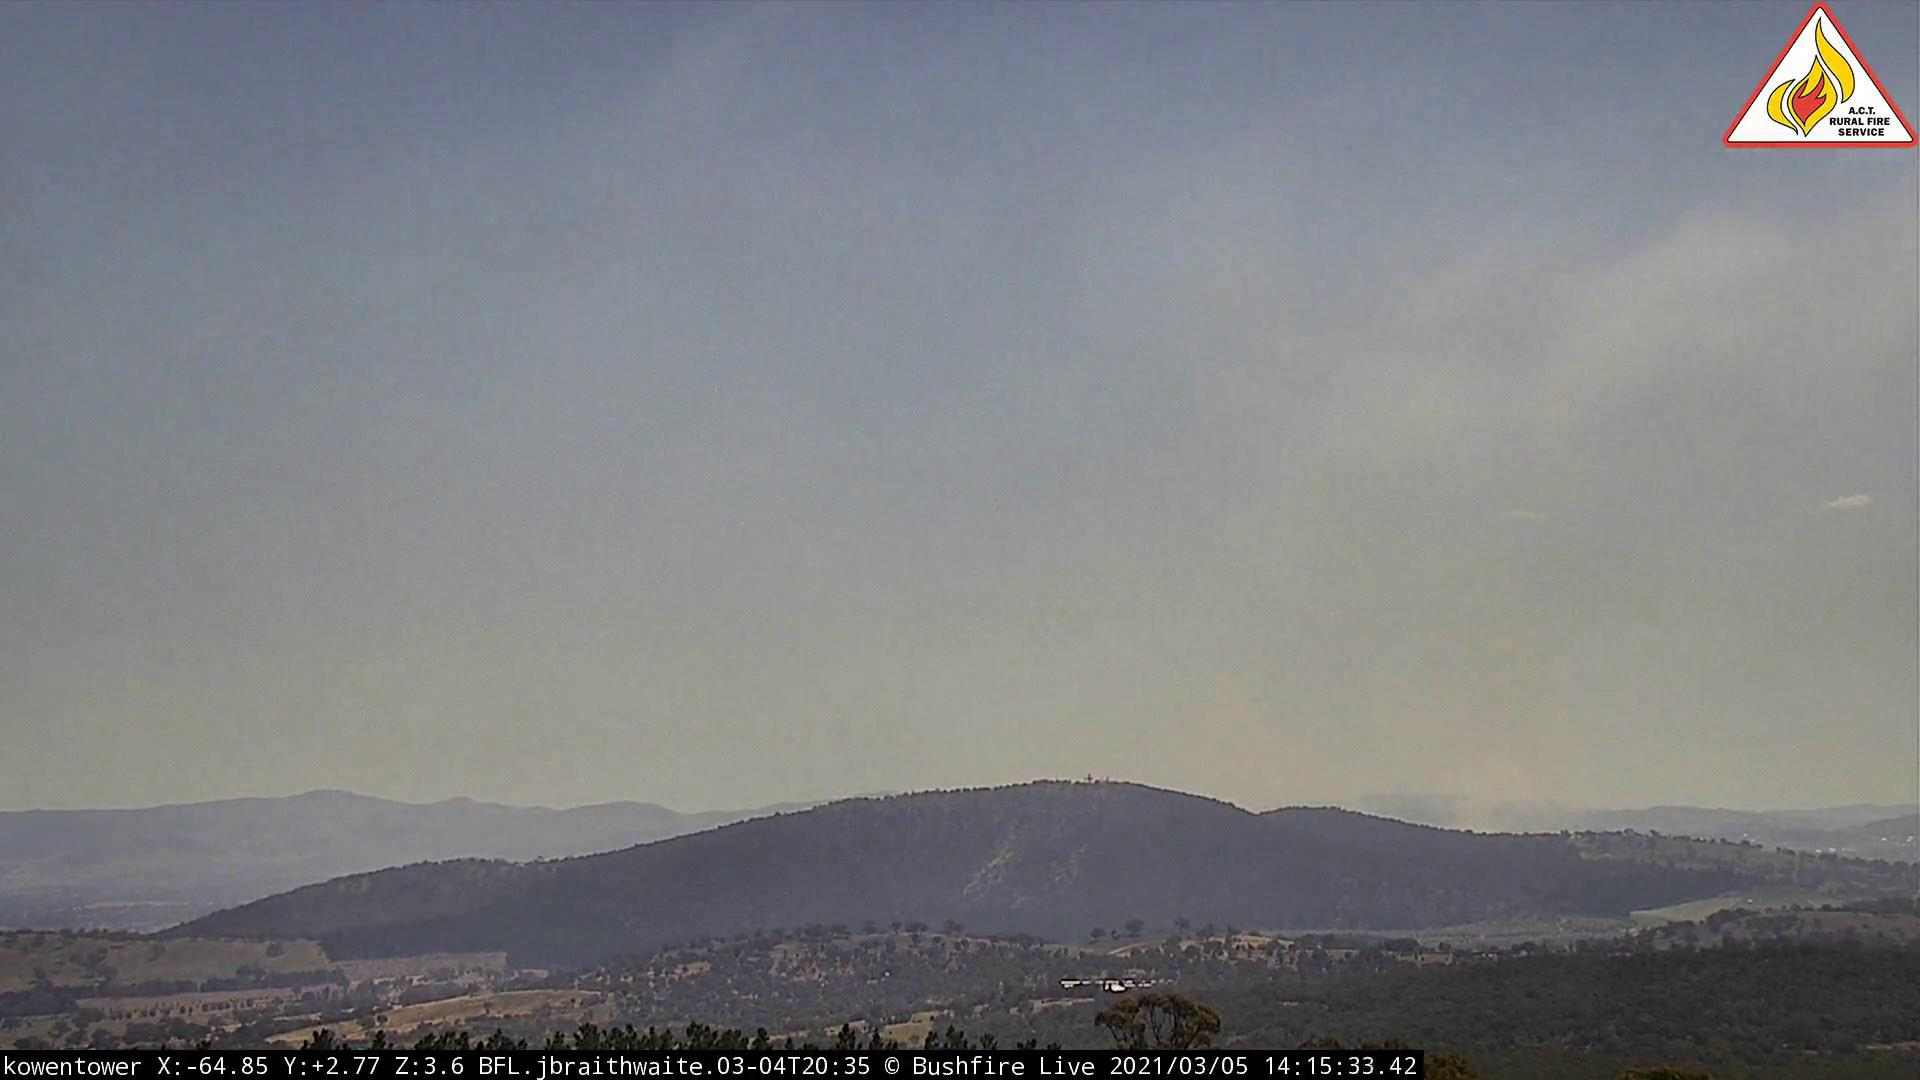instance_salient_object: (1331, 414, 1830, 836)
